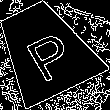P_NW: (14, 19, 76, 81)
